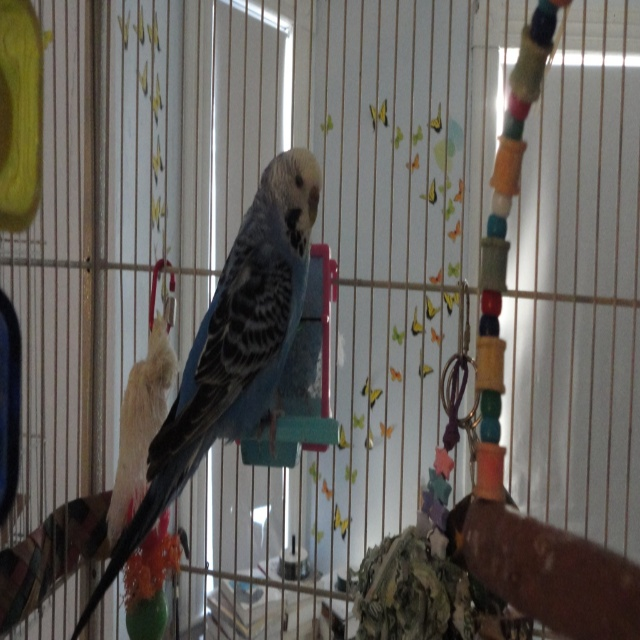Parrot: (72, 138, 321, 626)
